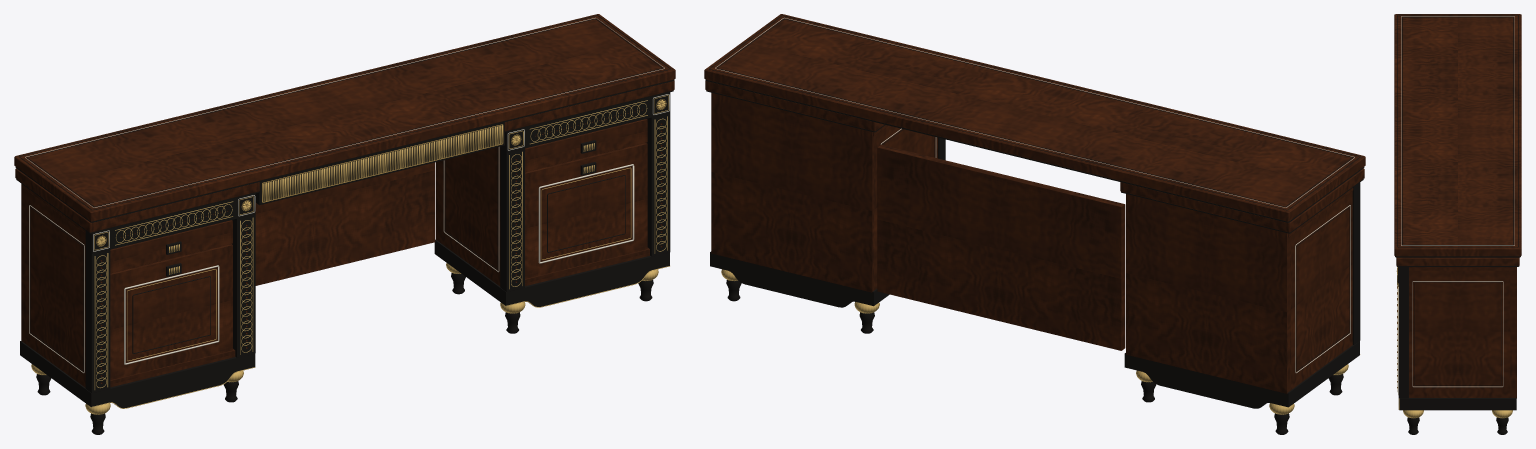
3 views of the same model, side by side, from view 1: azimuth 30°, elevation 25°; view 2: azimuth 150°, elevation 25°; view 3: azimuth 270°, elevation 25° (orthographic). The views are drawn at different scales.
Parts seen in each view (by area): view 1: Nantes dressing table | bedroom-32 web batch; view 2: Nantes dressing table | bedroom-32 web batch; view 3: Nantes dressing table | bedroom-32 web batch.
Part boxes in pixels (x1,y1,x2,y2): Nantes dressing table | bedroom-32 web batch: (14,14,675,434); Nantes dressing table | bedroom-32 web batch: (704,14,1365,434); Nantes dressing table | bedroom-32 web batch: (1394,14,1521,434).
Size of the model in its own units: 2.1 by 0.8011 by 0.48.
Materials: 7 (2 with a texture image).
